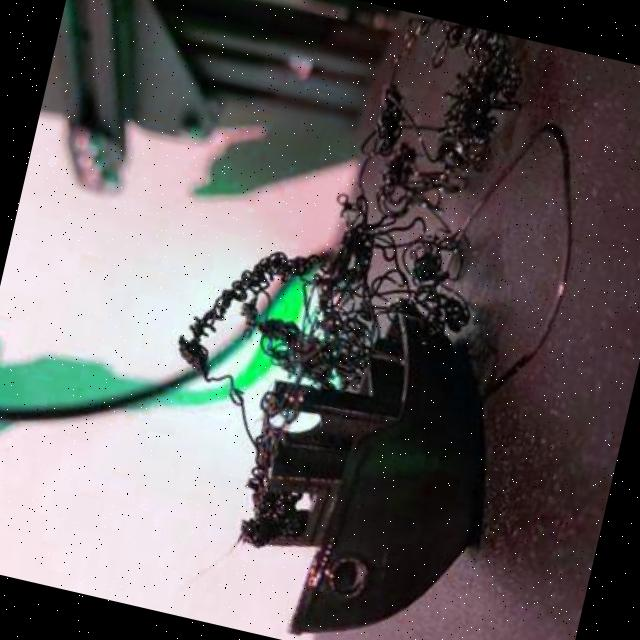spaghetti: (162, 0, 537, 469), (231, 432, 322, 556)
